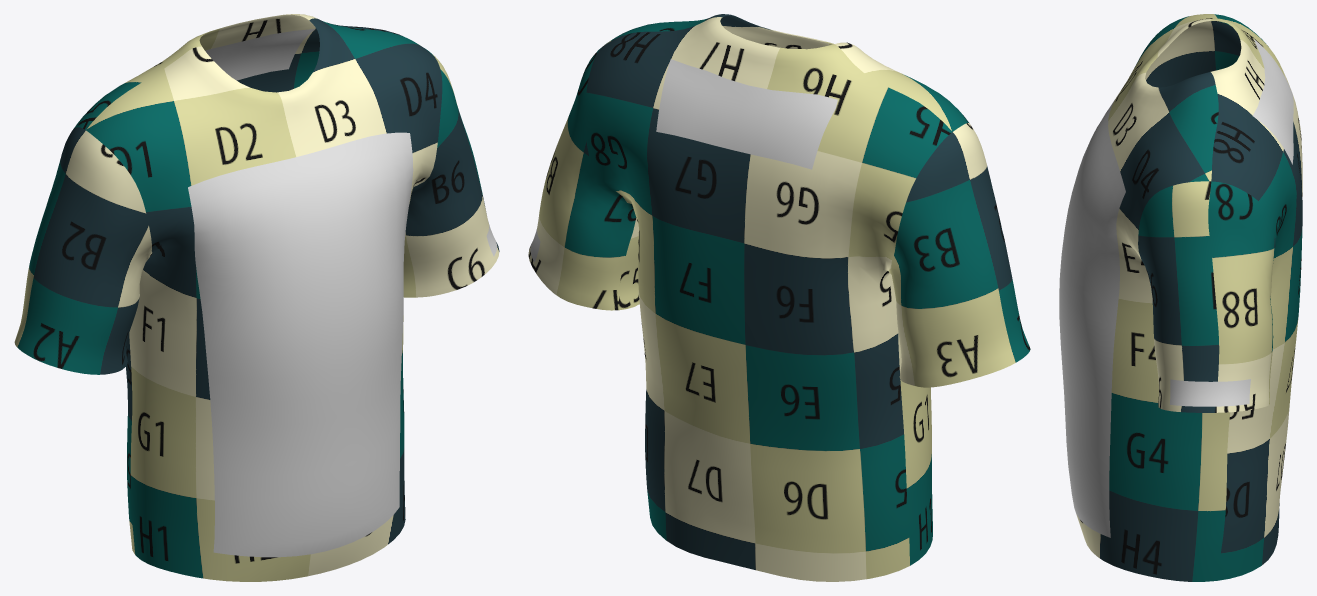
Rendered from tshirt-test.glb.
3 renders of one model, left to right at view 1: azimuth 30°, elevation 25°; view 2: azimuth 150°, elevation 25°; view 3: azimuth 270°, elevation 25°, orthographic. The views are drawn at different scales.
Visible parts, largest first — view 1: Test_Tshirt; view 2: Test_Tshirt; view 3: Test_Tshirt.
Boxes of the visible parts, x1,y1,x2,y2 form: Test_Tshirt: (14, 14, 499, 581); Test_Tshirt: (528, 14, 1030, 581); Test_Tshirt: (1059, 14, 1302, 581).
Bounding box in the file's own units: 0.2654 × 0.267 × 0.1223.
Materials: 2 (1 with a texture image).
